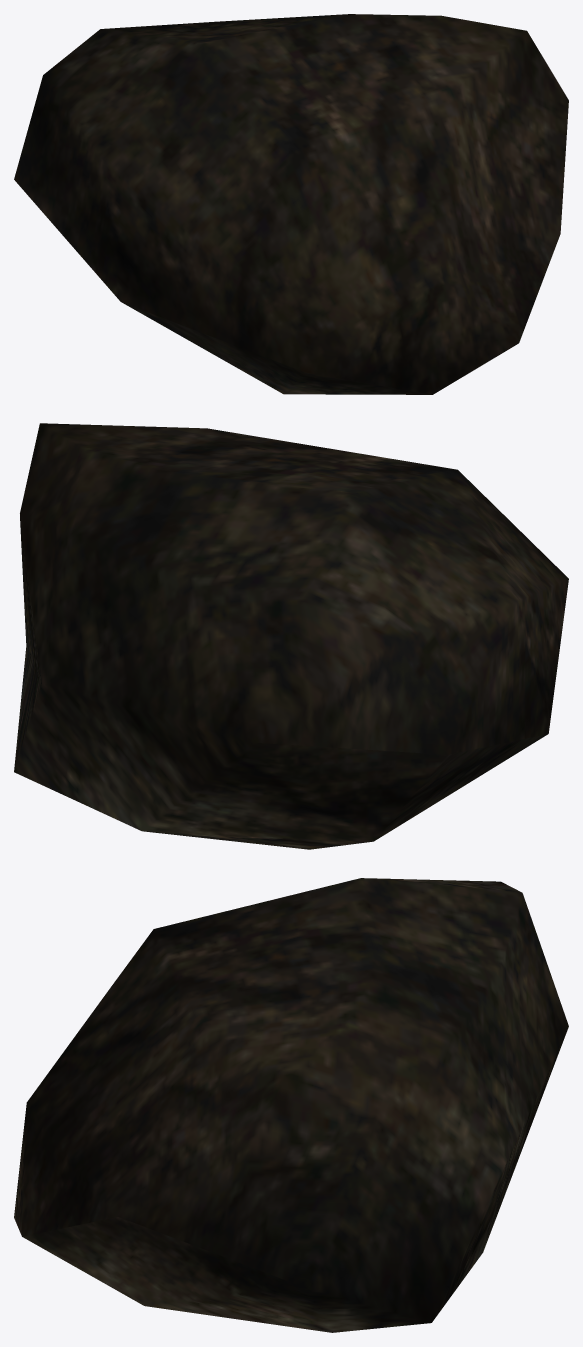
File: stone_small01_brown.dae
The picture shows the model from 3 angles, top to bottom: view 1: azimuth 30°, elevation 25°; view 2: azimuth 150°, elevation 25°; view 3: azimuth 270°, elevation 25°; orthographic projection. The views are drawn at different scales.
Visible parts, largest first — view 1: stone_small01_mesh; view 2: stone_small01_mesh; view 3: stone_small01_mesh.
Part boxes in pixels (x1,y1,x2,y2): stone_small01_mesh: (14,14,568,394); stone_small01_mesh: (14,423,568,849); stone_small01_mesh: (14,878,568,1332).
Bounding box in the file's own units: 0.3325 × 0.2055 × 0.3107.
